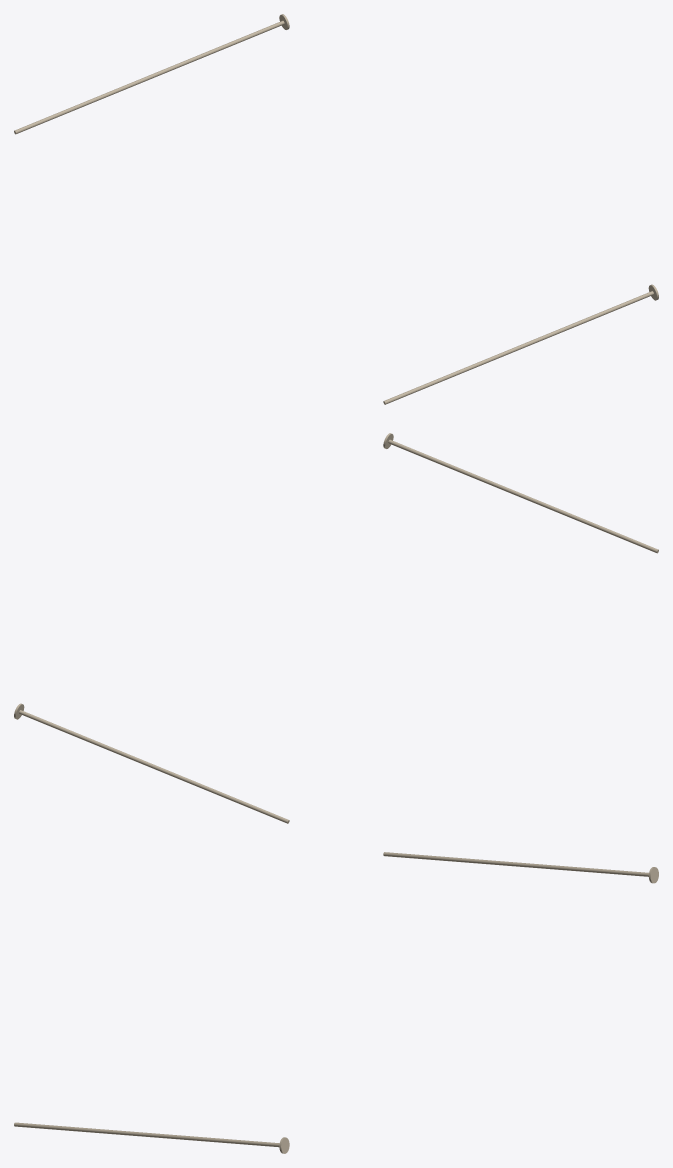
File: PROPULSION__SHAFTLINE COMPONENTS__shaft__surfs.gltf
3 views of the same model, one above another, from view 1: azimuth 30°, elevation 25°; view 2: azimuth 150°, elevation 25°; view 3: azimuth 330°, elevation 25° (orthographic).
Size of the model in its own units: 1.94 by 0.3687 by 4.67.
